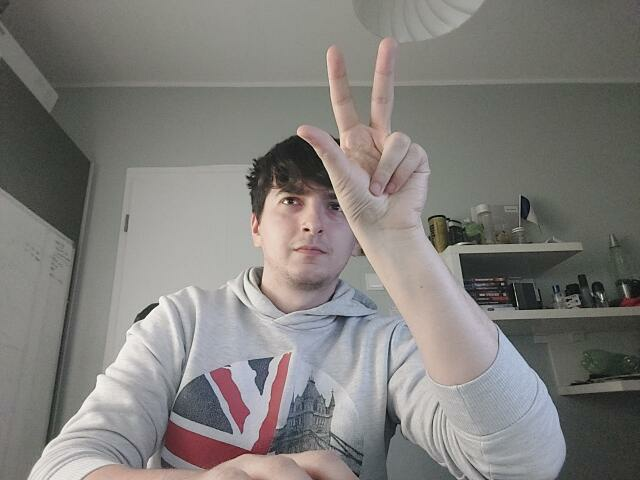no: (297, 37, 431, 226)
